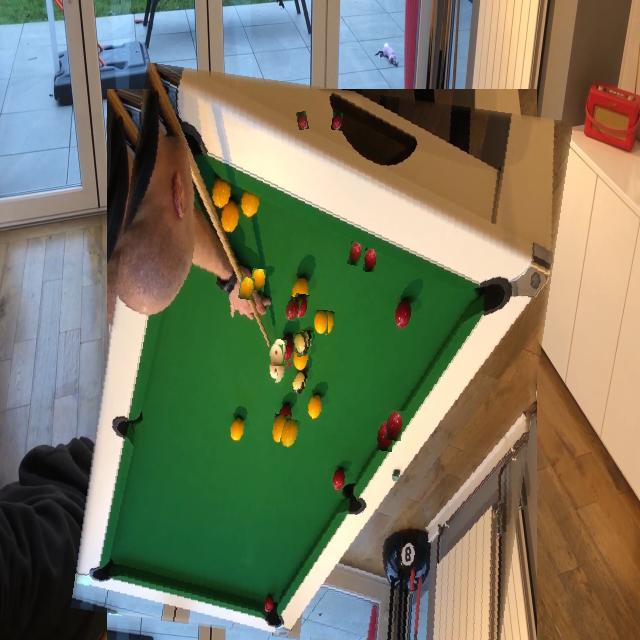Ball: (280, 418, 300, 449), (188, 507, 207, 536), (386, 411, 404, 441), (202, 483, 218, 515), (219, 500, 237, 526), (276, 362, 293, 388), (285, 296, 301, 322), (294, 332, 310, 356), (293, 358, 308, 383), (239, 278, 255, 300), (314, 310, 328, 334), (348, 242, 362, 266), (270, 345, 284, 366), (297, 112, 309, 130)
Billiard table: (88, 75, 555, 640)
